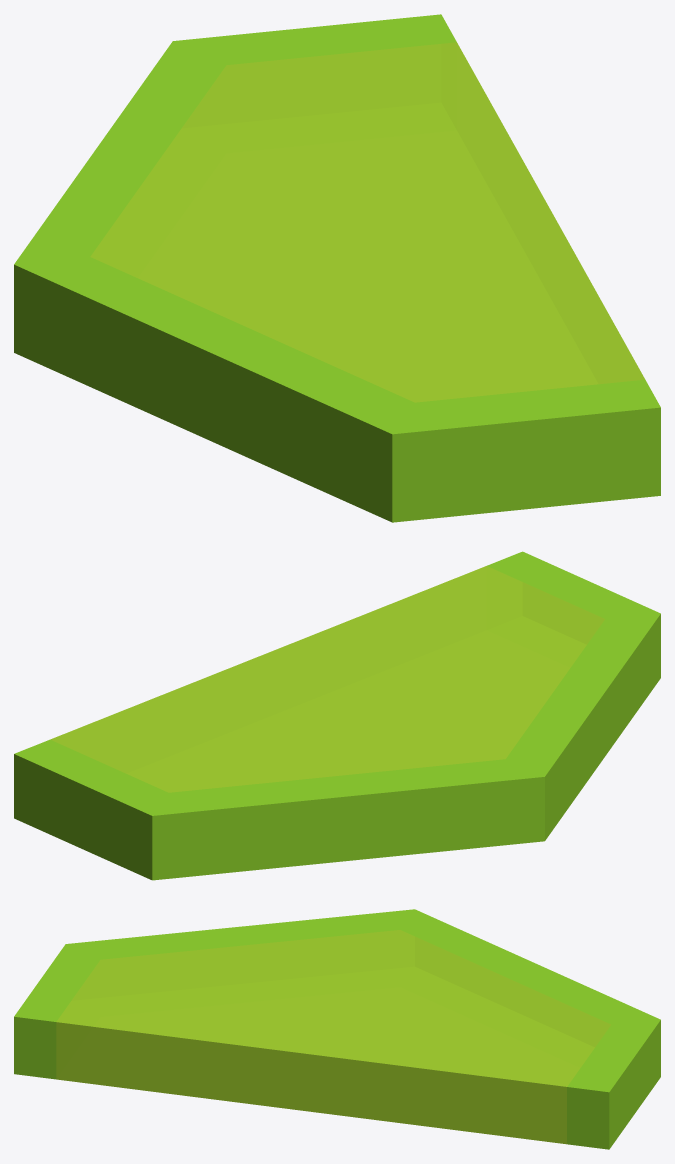
Rendered from Lime.dae.
3 views of the same model, one above another, from view 1: azimuth 30°, elevation 25°; view 2: azimuth 150°, elevation 25°; view 3: azimuth 270°, elevation 25° (orthographic). The views are drawn at different scales.
Parts seen in each view (by area): view 1: SketchUp (×2); view 2: SketchUp (×2); view 3: SketchUp (×2).
Boxes of the visible parts, x1,y1,x2,y2 form: SketchUp (×2): (14,14,660,522); SketchUp (×2): (14,551,660,880); SketchUp (×2): (14,909,660,1149).
Bounding box in the file's own units: 2.56 × 3.83 × 0.375.
